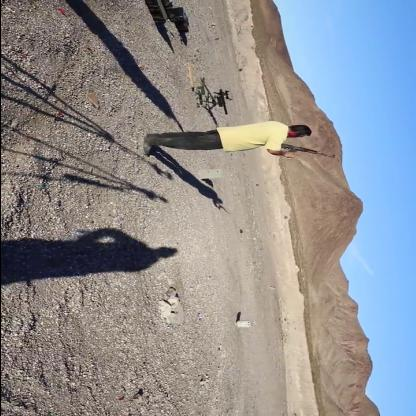long weapon: (253, 141, 341, 163), (198, 83, 242, 121)
